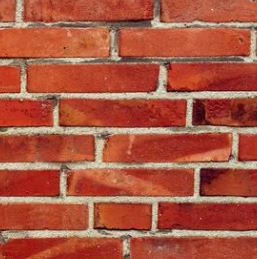brick: (25, 62, 159, 93), (117, 28, 253, 58), (57, 97, 187, 128), (66, 167, 195, 197), (103, 134, 233, 162), (1, 27, 112, 58), (157, 200, 257, 232), (1, 132, 96, 165), (23, 1, 153, 24), (166, 61, 257, 93), (1, 201, 91, 233), (128, 236, 257, 258), (1, 235, 124, 258), (190, 97, 257, 128), (160, 1, 257, 22), (198, 166, 257, 198), (93, 200, 153, 231), (1, 96, 55, 129), (1, 168, 62, 197)
